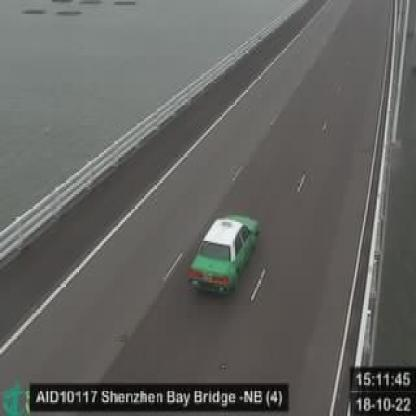Car: (188, 214, 261, 300)
